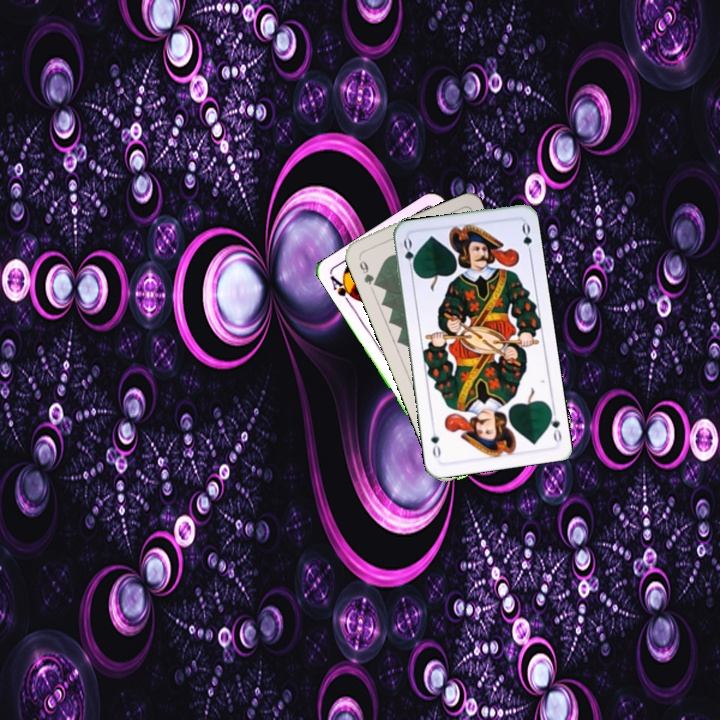G9: (354, 253, 380, 289)
GO: (399, 235, 419, 276), (544, 404, 564, 445)
SA: (326, 271, 359, 308)
